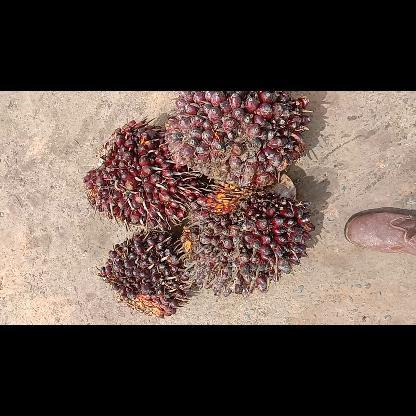Kurang masak: (180, 174, 316, 298), (80, 111, 216, 231)
TBS mentah: (160, 92, 312, 190), (96, 227, 194, 319)
